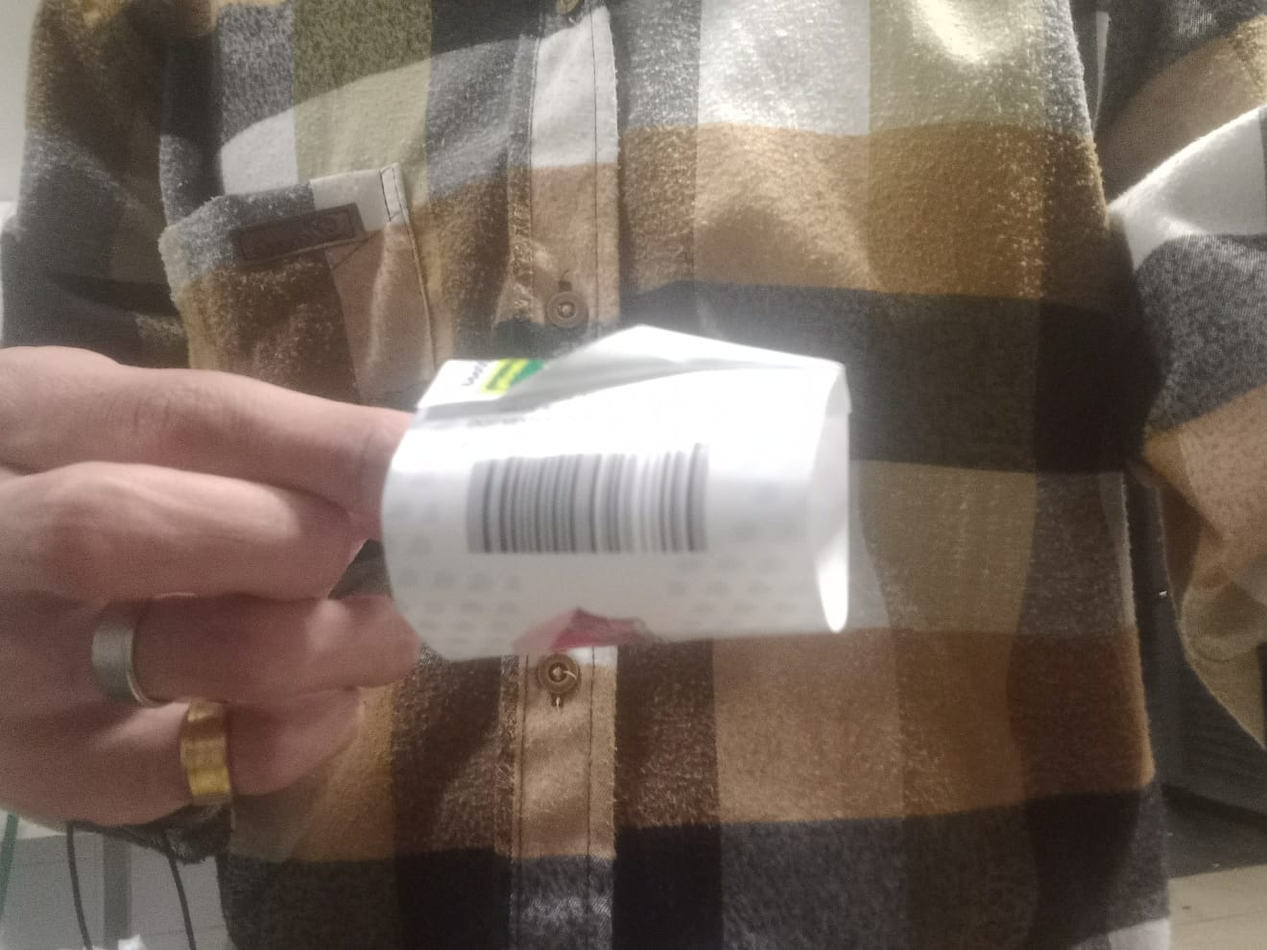Papel: (379, 323, 850, 664)
